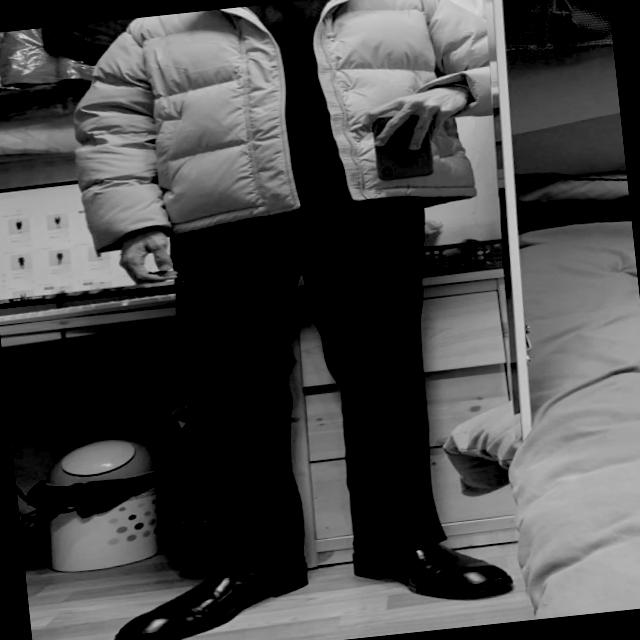padding: (53, 0, 499, 251)
slacks: (144, 175, 458, 586)
